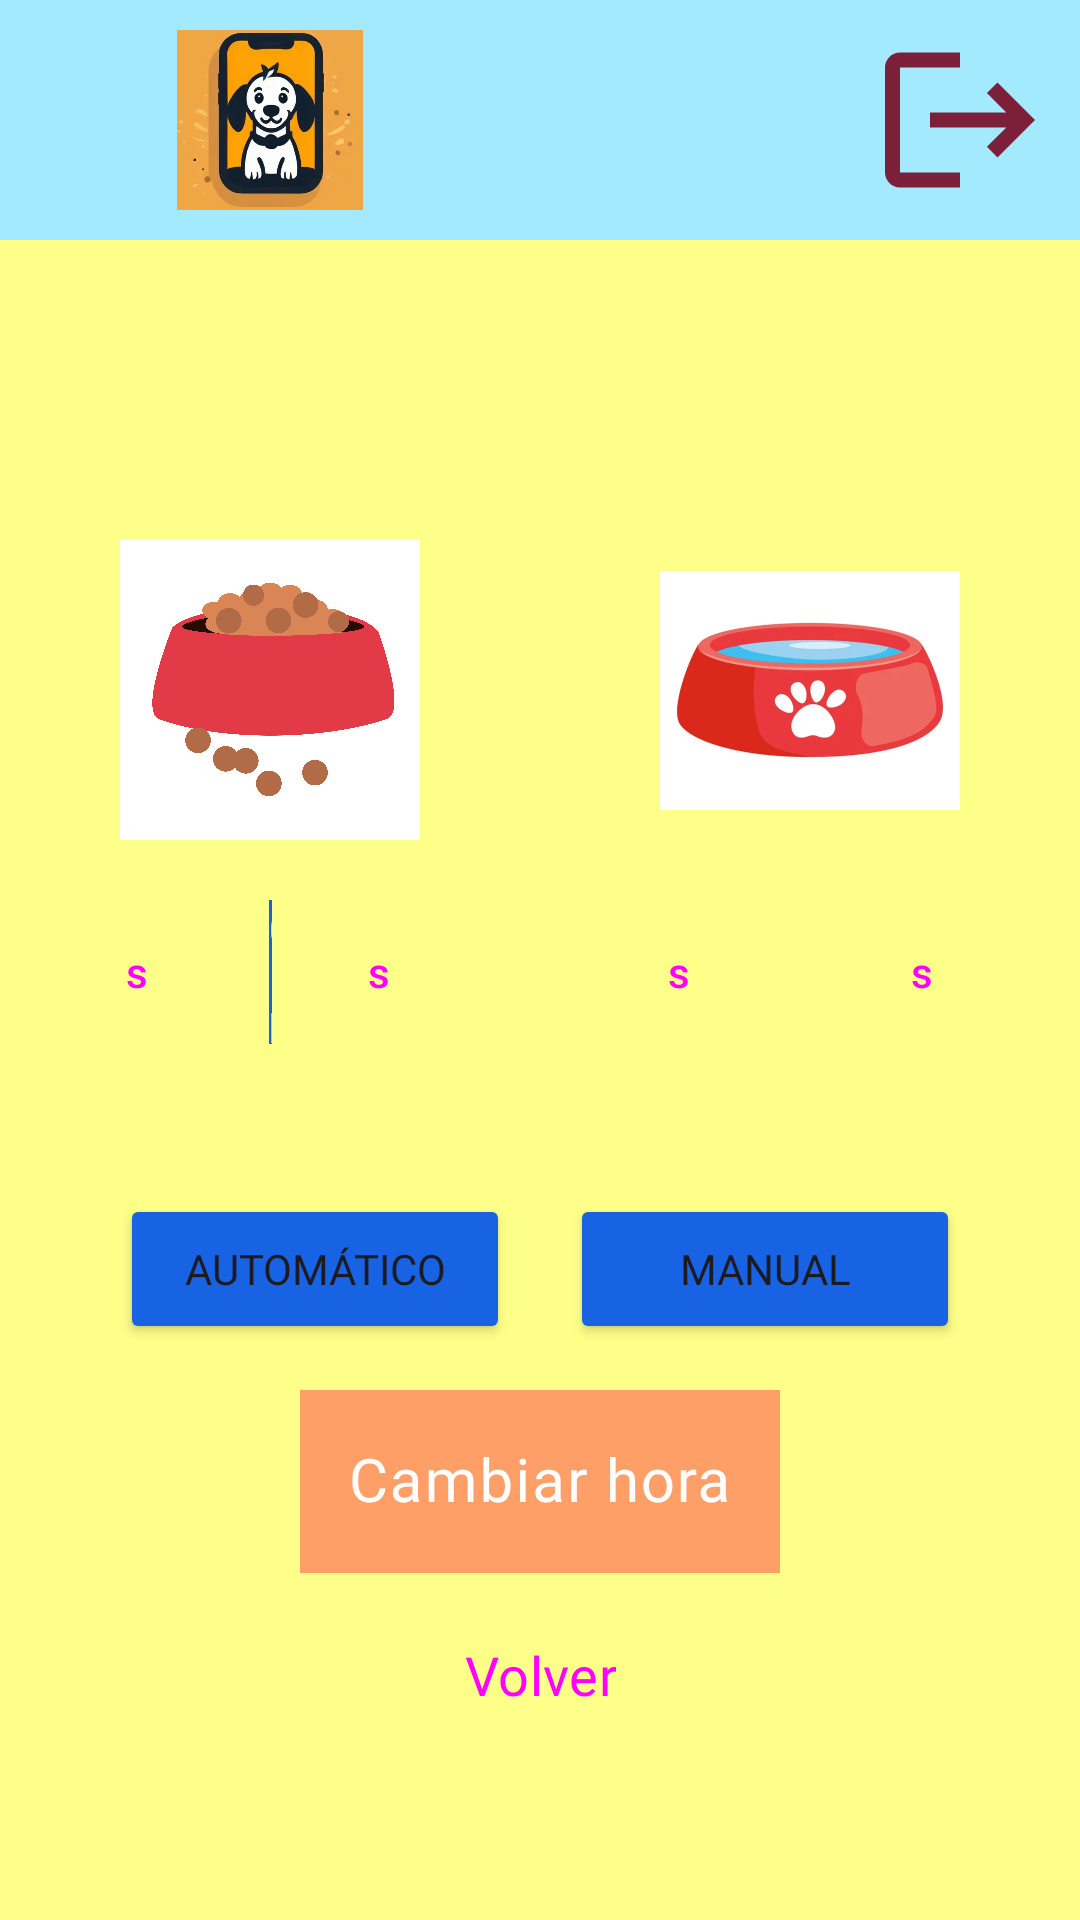

Where icons sit on this 1080w x 1920h app screen, as (x1, y1, x2, y2):
Foto de agua: (660, 571, 960, 810)
Foto de comida: (120, 540, 420, 840)
Icono salir: (885, 52, 1035, 188)
